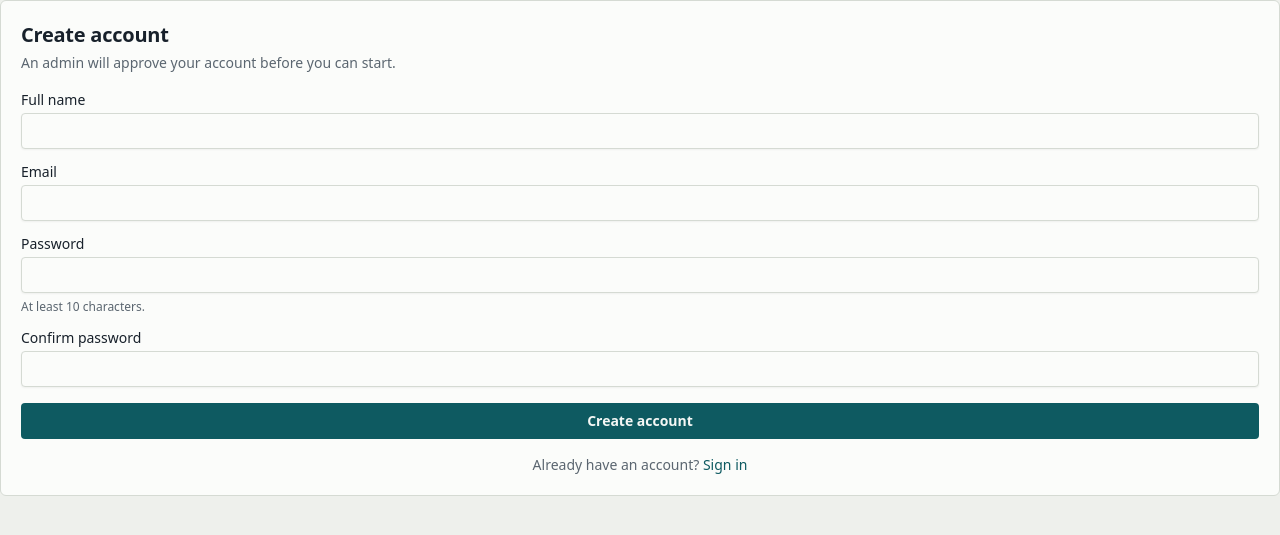
Test: RegisterPage › requires matching passwords of at least 10 characters
In the field labelled "Full name": [640, 131] box x1=21 y1=113 x2=1259 y2=149, type "New Person"
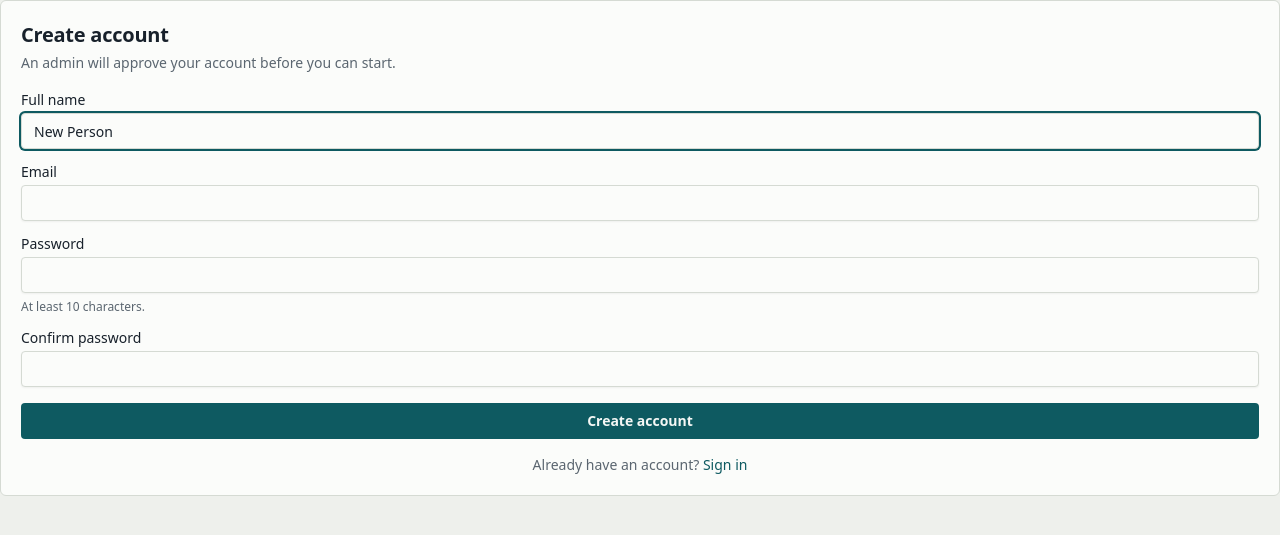
In the field labelled "Email": [640, 203] box x1=21 y1=185 x2=1259 y2=221, type "new@example.com"
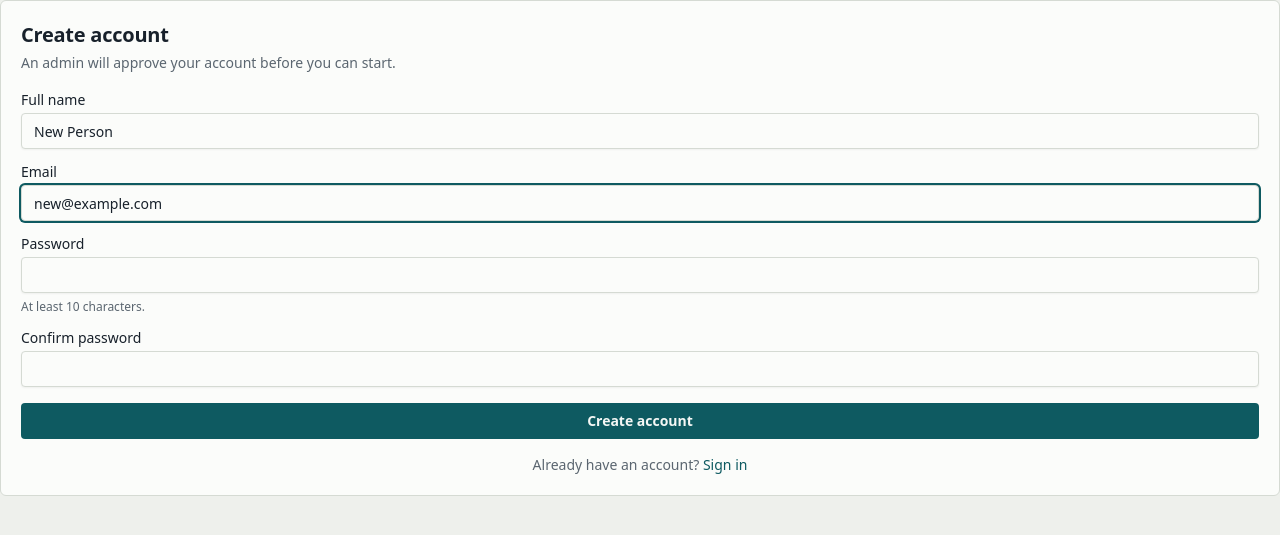
In the password field labelled "Password": [640, 275] box x1=21 y1=257 x2=1259 y2=293, type "short"
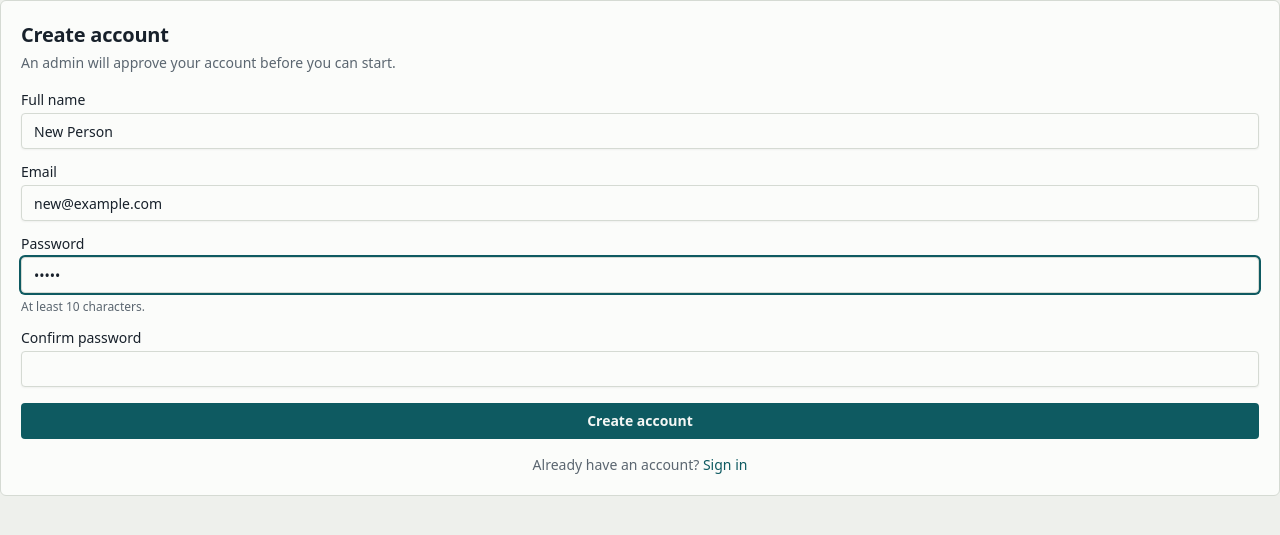
In the password field labelled "Confirm password": [640, 369] box x1=21 y1=351 x2=1259 y2=387, type "different"
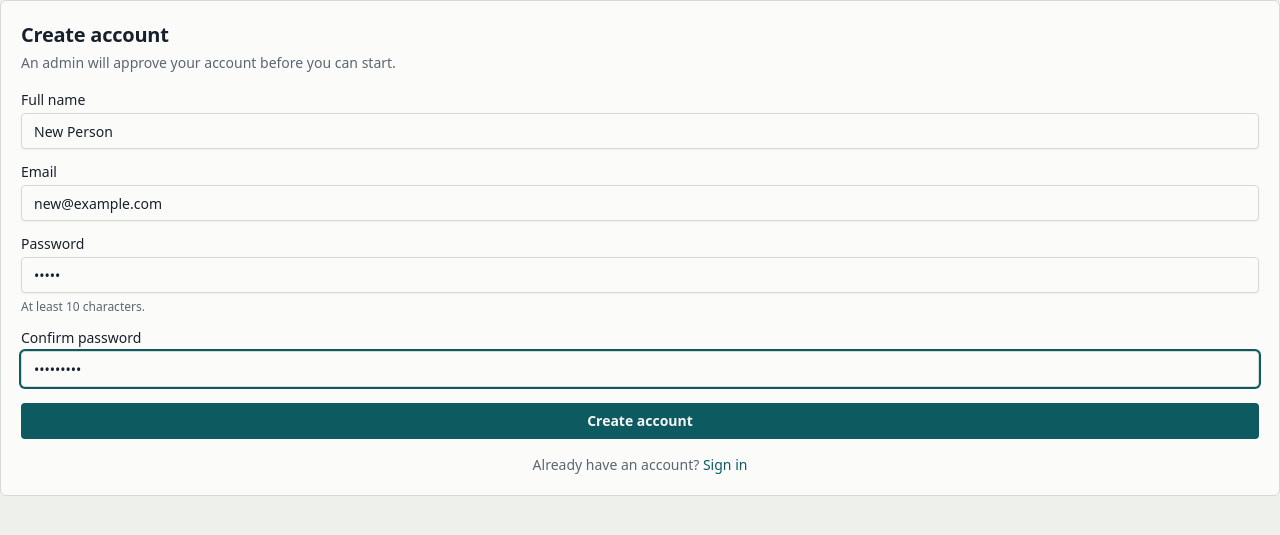
Click the button "Create account": [640, 421] box x1=21 y1=403 x2=1259 y2=439
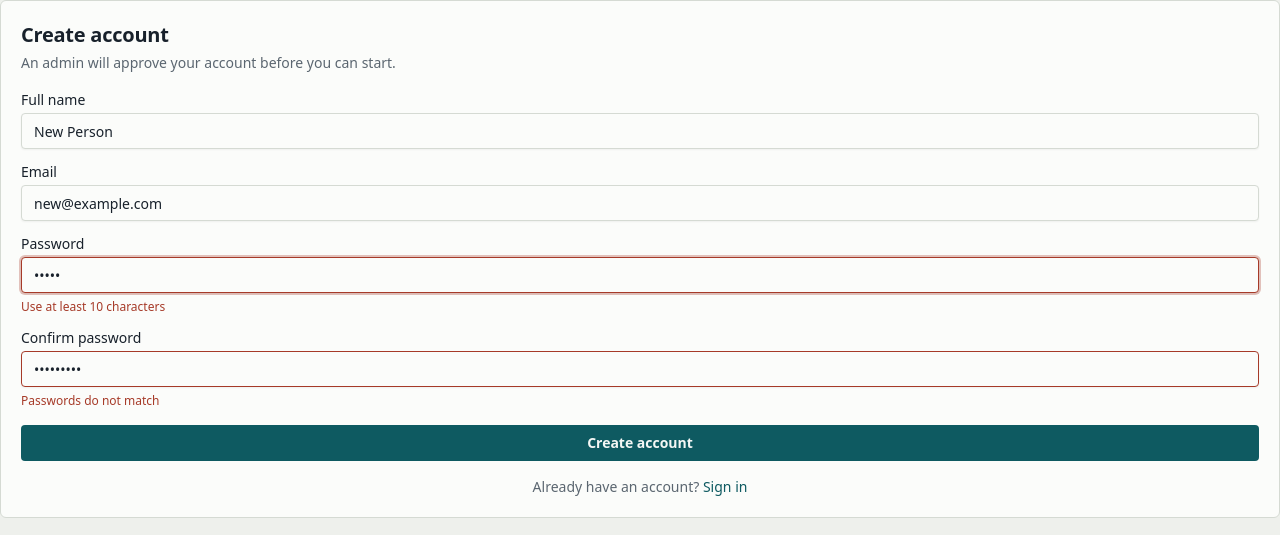
Expected: the text "Use at least 10 characters" is shown, x1=21 y1=298 x2=165 y2=315
Expected: the text "Passwords do not match" is shown, x1=21 y1=392 x2=160 y2=409
